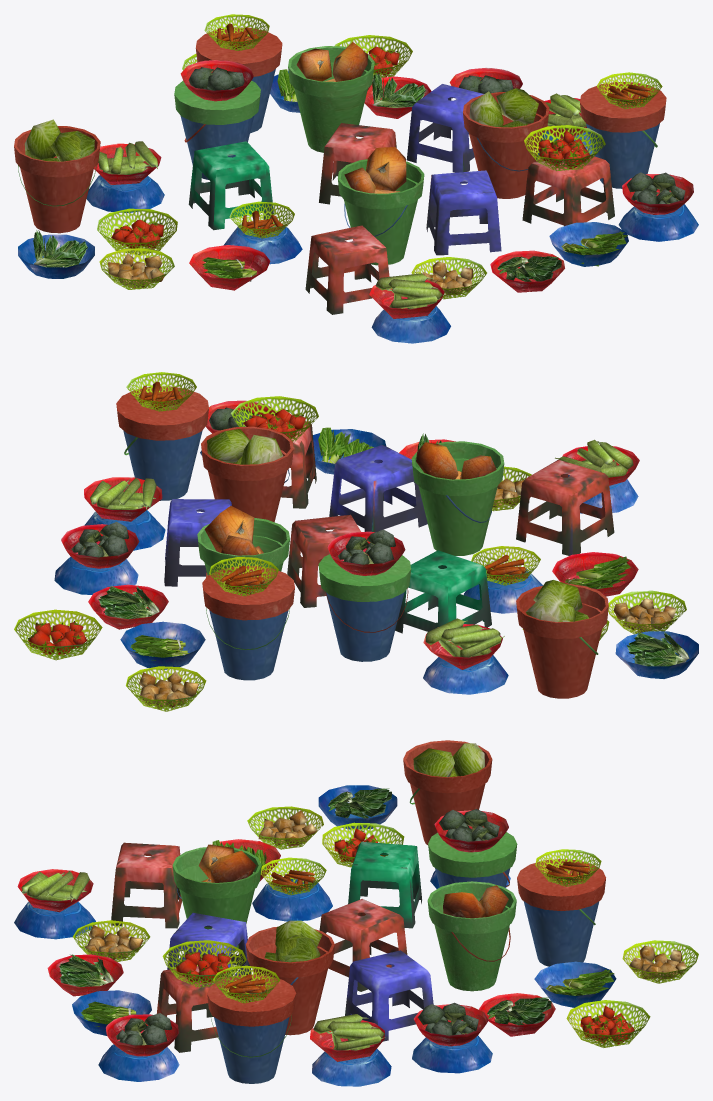
File: vn_veg_market.glb
3 views of the same model, one above another, from view 1: azimuth 30°, elevation 25°; view 2: azimuth 150°, elevation 25°; view 3: azimuth 270°, elevation 25° (orthographic). The views are drawn at different scales.
Parts seen in each view (by area): view 1: Circle.006_veget stall_0; view 2: Circle.006_veget stall_0; view 3: Circle.006_veget stall_0.
Part boxes in pixels (x1,y1,x2,y2): Circle.006_veget stall_0: [14, 14, 698, 343]; Circle.006_veget stall_0: [14, 372, 698, 711]; Circle.006_veget stall_0: [14, 740, 698, 1086].
Size of the model in its own units: 2.8 by 0.5146 by 2.78.
1 material, 1 textured.
